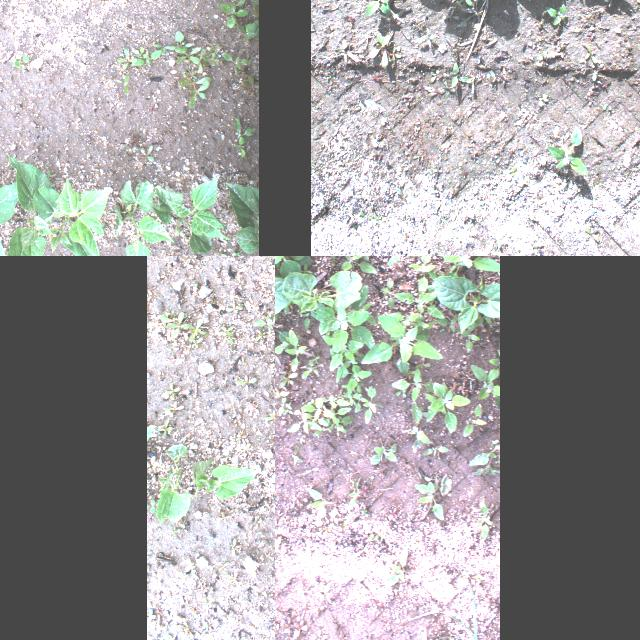crop: (150, 172, 230, 254), (33, 176, 108, 256), (5, 152, 52, 256), (113, 178, 175, 256), (433, 275, 499, 335), (282, 270, 362, 316), (190, 457, 256, 499), (156, 444, 190, 524), (225, 182, 257, 252), (544, 126, 586, 176), (275, 265, 299, 326), (545, 2, 569, 26), (146, 424, 156, 442), (456, 0, 472, 6)
weed: (408, 561, 499, 640), (361, 314, 442, 374), (310, 284, 374, 354), (393, 366, 439, 420), (422, 383, 470, 433), (441, 256, 498, 287), (330, 338, 364, 382), (394, 290, 444, 318), (178, 66, 210, 108), (163, 30, 200, 66), (470, 364, 500, 406), (469, 439, 499, 476), (415, 481, 443, 519), (409, 256, 434, 295), (284, 328, 306, 372), (339, 368, 373, 394), (312, 416, 356, 436), (367, 30, 391, 66), (385, 548, 407, 586), (275, 302, 294, 346), (306, 487, 332, 518), (329, 256, 376, 273), (363, 384, 383, 422), (464, 402, 486, 436), (219, 0, 246, 27), (386, 312, 434, 326), (220, 52, 248, 74), (451, 59, 471, 89), (369, 443, 398, 463), (477, 500, 491, 540), (423, 474, 451, 494), (363, 0, 395, 17), (116, 46, 138, 70), (169, 312, 189, 338), (317, 394, 349, 410), (234, 114, 256, 136), (236, 20, 258, 42), (132, 48, 162, 64), (186, 318, 206, 342), (346, 480, 362, 510), (460, 328, 480, 352), (468, 310, 492, 330), (288, 418, 322, 432), (353, 382, 367, 412), (417, 26, 435, 48), (410, 424, 428, 446), (381, 278, 394, 308), (303, 409, 327, 425), (302, 359, 322, 378), (240, 75, 258, 95), (434, 316, 456, 332), (488, 351, 499, 382), (114, 73, 130, 93), (583, 222, 599, 242), (156, 419, 172, 439), (277, 372, 297, 388), (300, 398, 326, 410), (386, 256, 425, 264), (234, 376, 256, 390), (322, 407, 352, 417), (135, 144, 153, 160), (292, 619, 308, 637), (253, 314, 275, 326), (290, 441, 302, 463), (164, 401, 184, 414), (422, 445, 448, 455), (341, 384, 354, 404), (280, 616, 296, 632), (164, 380, 178, 398), (182, 618, 194, 638), (318, 582, 330, 602), (202, 52, 218, 66), (14, 53, 28, 69), (236, 136, 247, 156), (390, 45, 402, 61), (215, 510, 231, 522), (224, 302, 243, 312), (601, 0, 621, 9), (230, 537, 240, 555), (216, 324, 234, 334), (311, 628, 326, 640), (134, 46, 148, 58), (212, 245, 227, 256), (486, 70, 496, 86), (160, 316, 180, 324), (308, 351, 320, 364), (429, 65, 438, 81), (186, 559, 194, 577), (278, 395, 286, 413), (215, 561, 229, 571), (253, 330, 267, 340), (263, 410, 275, 421), (366, 533, 379, 543), (235, 432, 245, 444), (158, 322, 170, 332), (191, 338, 203, 348), (275, 388, 288, 397), (275, 344, 282, 360), (388, 506, 397, 518), (268, 436, 275, 451), (226, 574, 238, 582), (275, 536, 280, 553), (284, 403, 292, 413), (161, 632, 170, 640), (160, 271, 168, 279), (203, 600, 213, 606), (186, 256, 196, 262), (171, 527, 181, 533), (231, 251, 241, 256), (362, 509, 368, 516)
